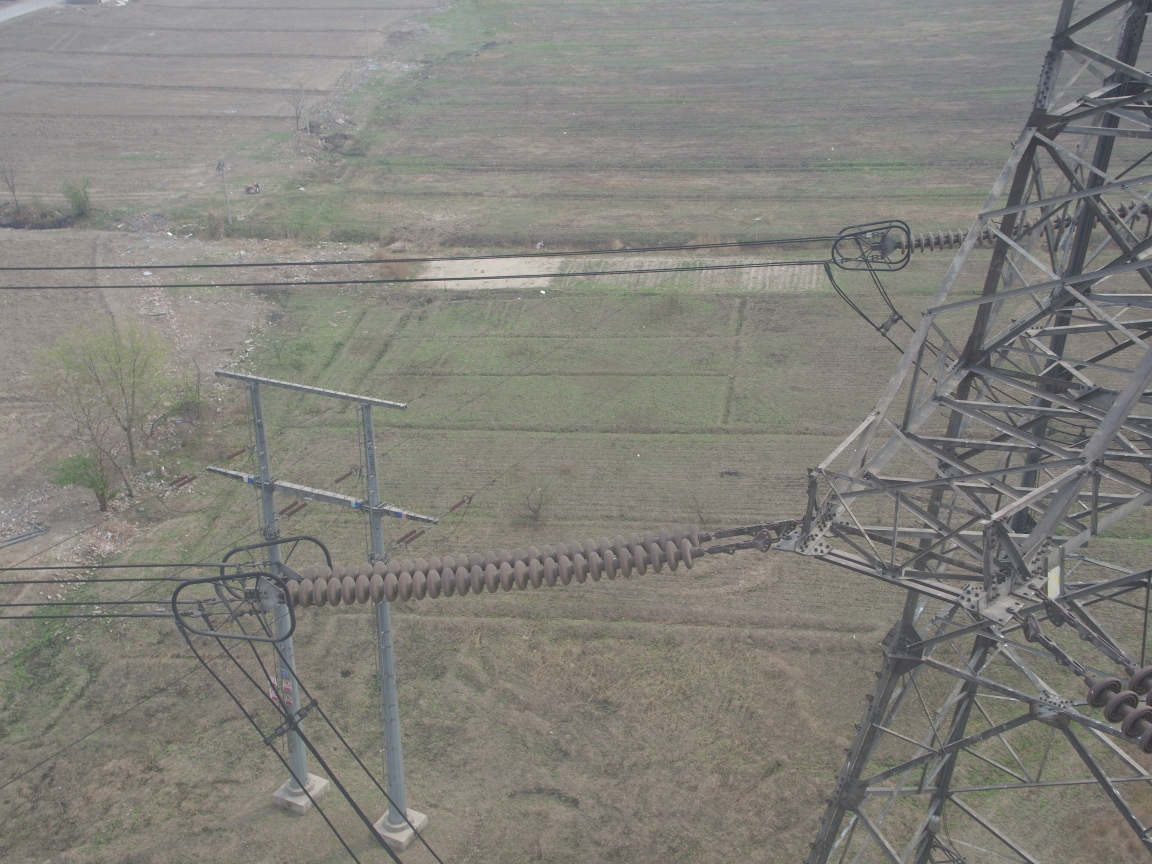insulator: (268, 519, 744, 612)
